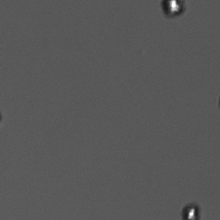Living Cell: (160, 1, 185, 18), (180, 202, 199, 218)
